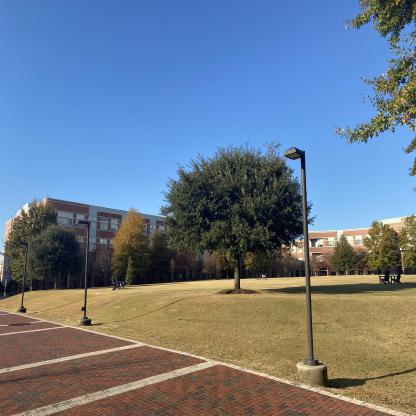EB-1: (2, 192, 289, 293)
